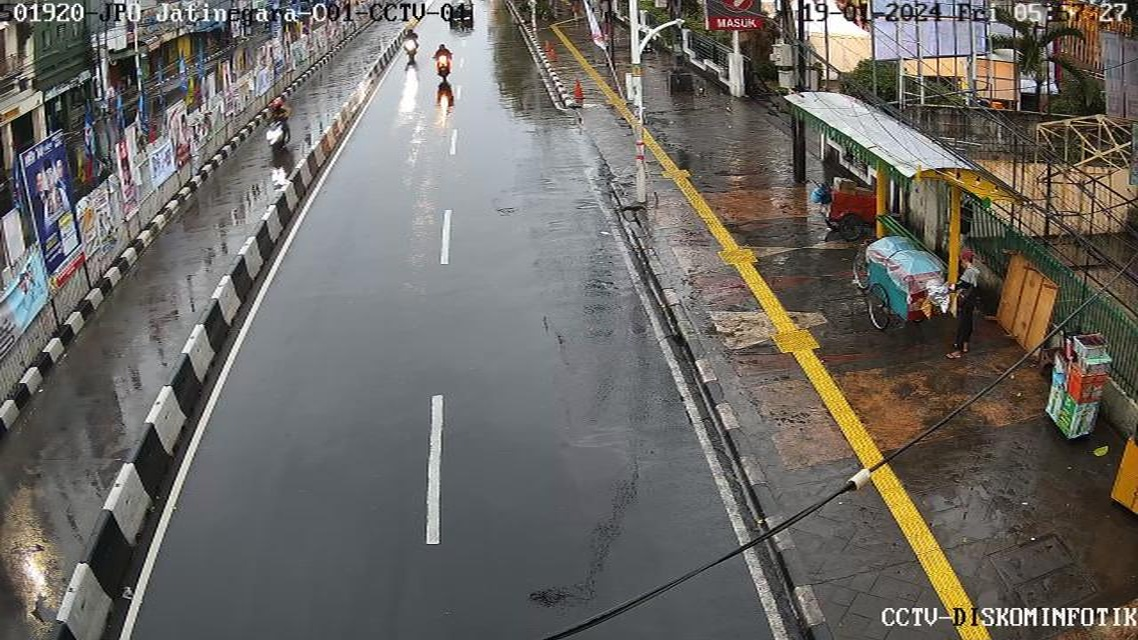Gerobak: (846, 221, 980, 368)
